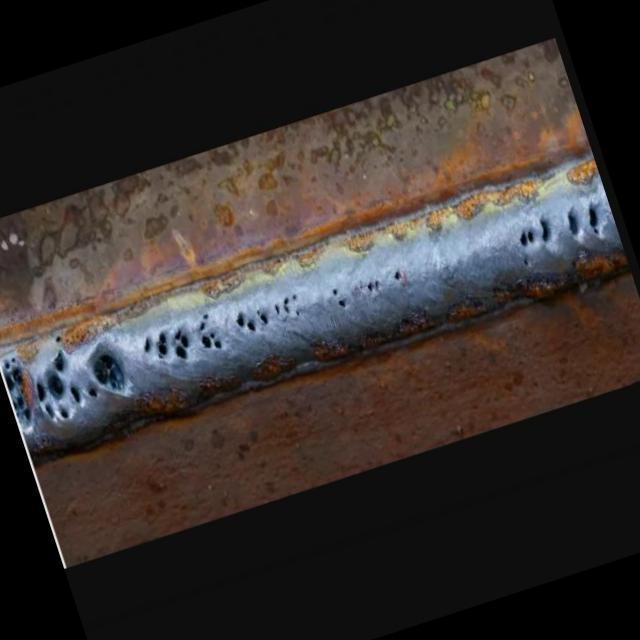defect: (32, 331, 132, 427), (2, 356, 33, 426), (516, 215, 554, 270), (198, 310, 226, 354), (231, 308, 272, 336), (273, 292, 303, 319), (173, 327, 192, 365), (587, 198, 601, 239), (154, 331, 169, 363), (566, 208, 580, 241), (330, 286, 350, 309), (365, 277, 380, 296), (142, 336, 151, 354), (392, 269, 404, 282)
